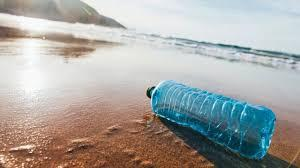Plastic: (115, 55, 290, 167)
